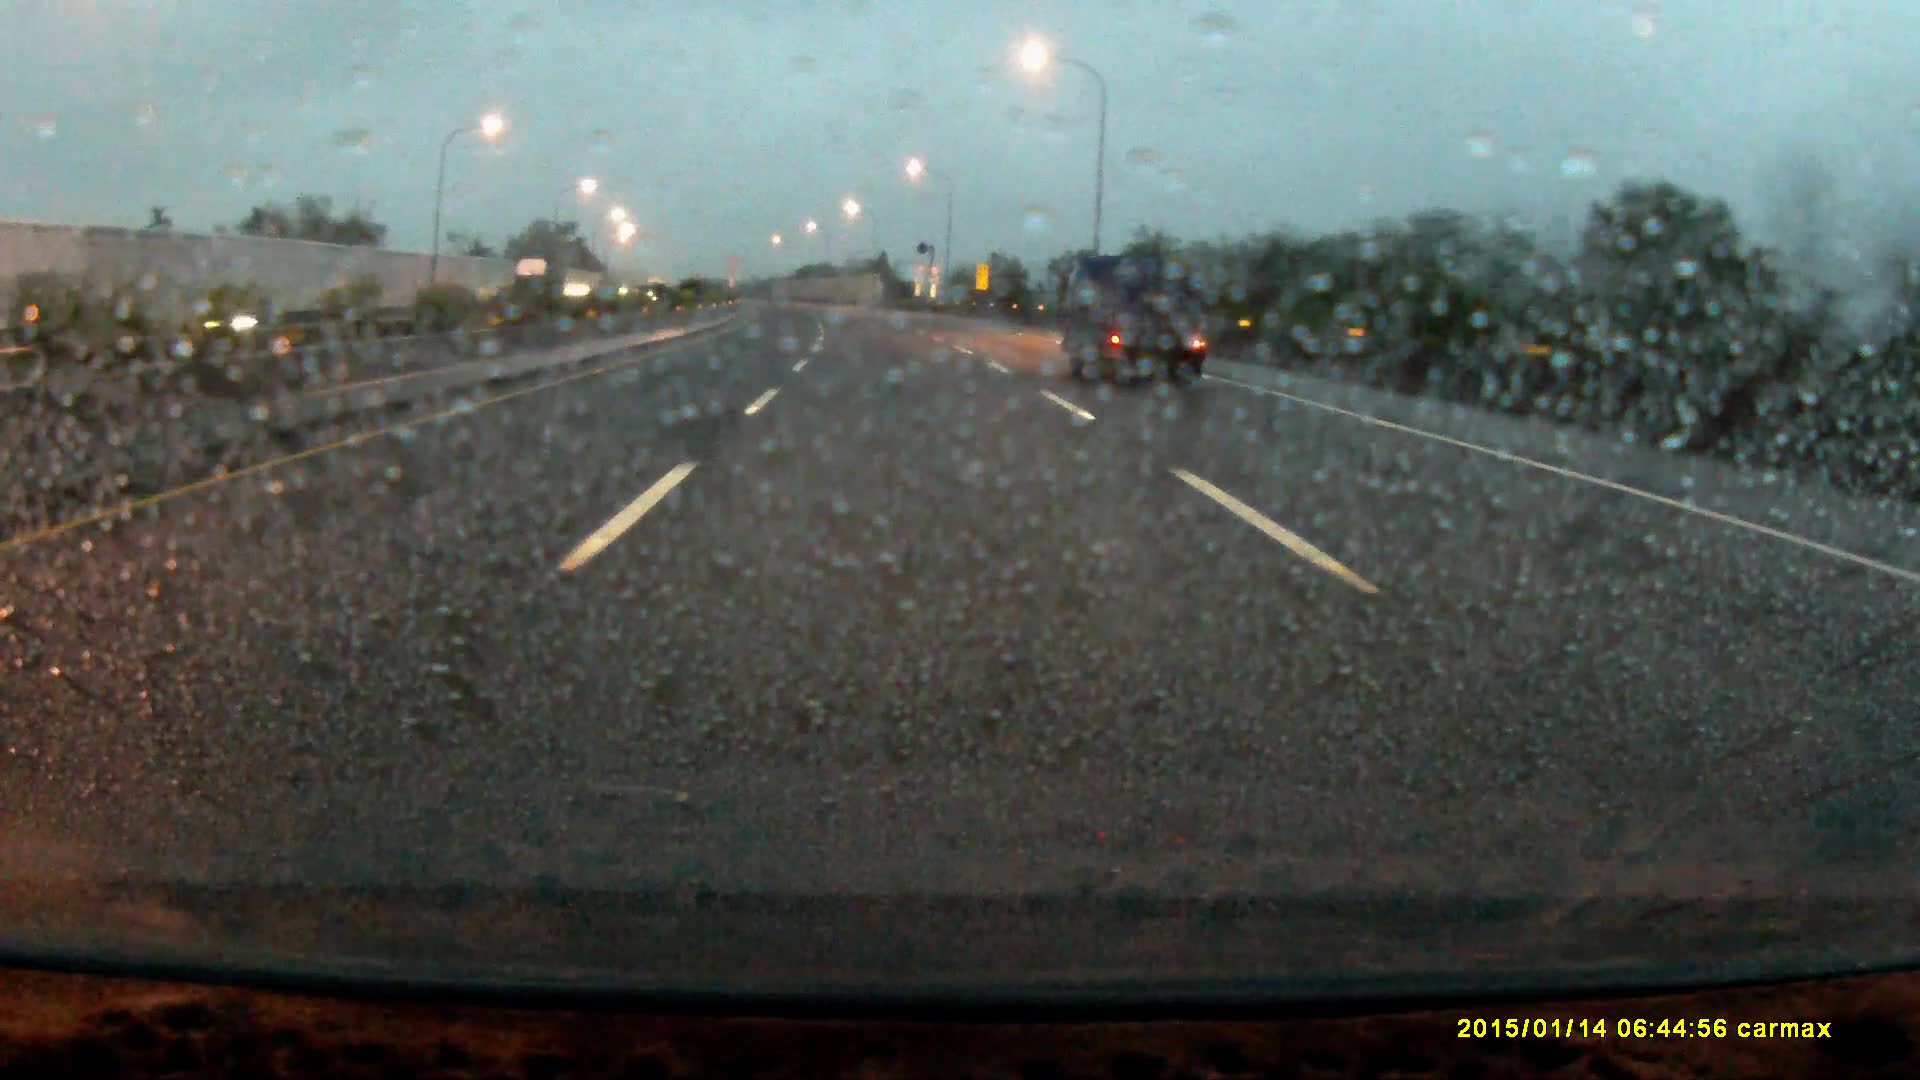vehicle: (1060, 253, 1207, 398), (514, 256, 566, 323)
